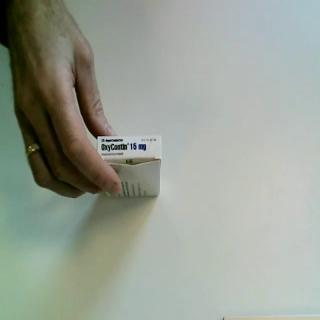oxycontin15mg: (96, 134, 164, 200)
